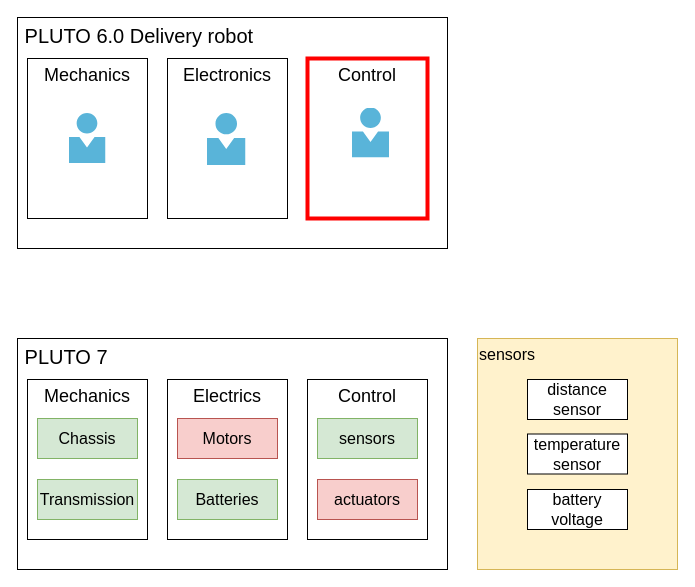
This 695x587 diagram has some shape labels left out. Here are the shapes that lost their labels. From the top down, the centre of each, then its label:
At (87,138): "Team M".
At (226,139): "Team E".
At (370,133): "Team C".
